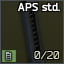APS 9x18PM 20-round magazine: (0, 0, 64, 64)
